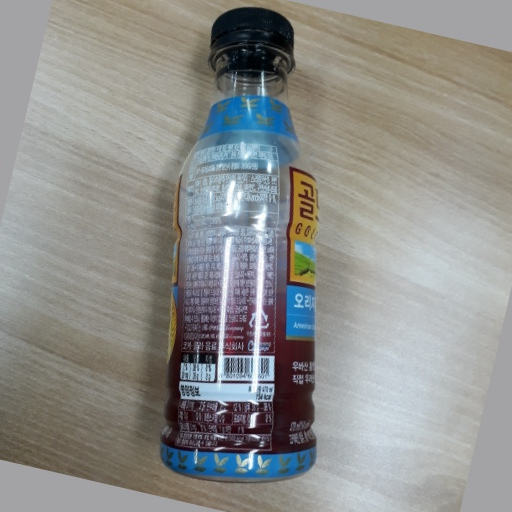Plastic_0: (157, 10, 321, 485)
